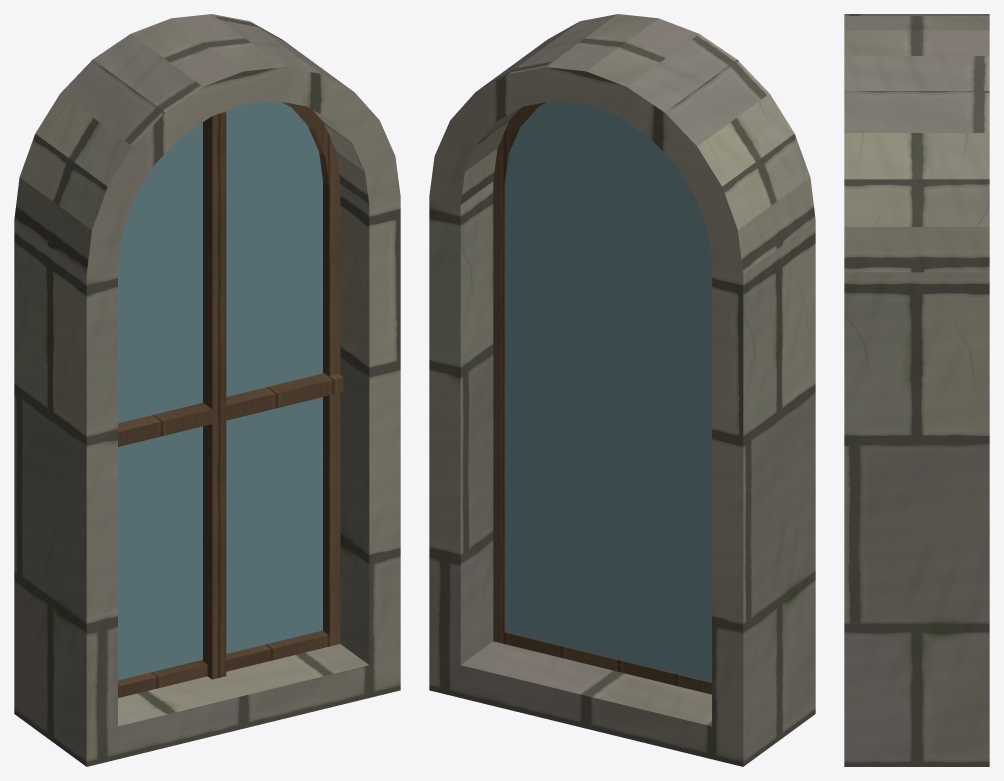
The model's file is Furn_Window_Arch.fbx.
3 renders of one model, left to right at view 1: azimuth 30°, elevation 25°; view 2: azimuth 150°, elevation 25°; view 3: azimuth 270°, elevation 25°, orthographic.
Parts seen in each view (by area): view 1: Furn_Window_Arch_Mesh; view 2: Furn_Window_Arch_Mesh; view 3: Furn_Window_Arch_Mesh.
Part boxes in pixels (x1,y1,x2,y2): Furn_Window_Arch_Mesh: (14,14,400,766); Furn_Window_Arch_Mesh: (429,14,815,766); Furn_Window_Arch_Mesh: (844,14,989,766).
Size of the model in its own units: 1 by 2 by 0.4.
